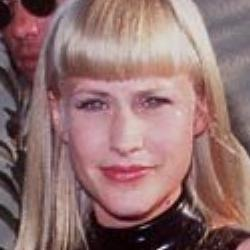face: (14, 1, 248, 239)
